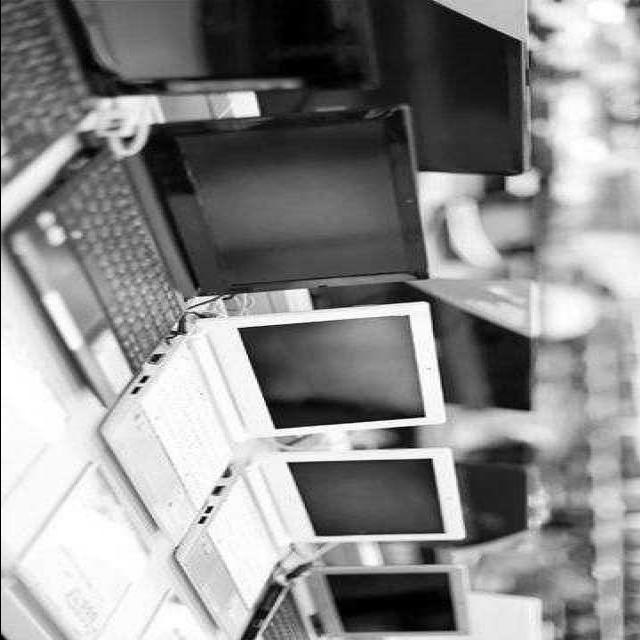laptop: (22, 110, 404, 353), (105, 313, 426, 525), (182, 447, 458, 640), (0, 0, 330, 113)
